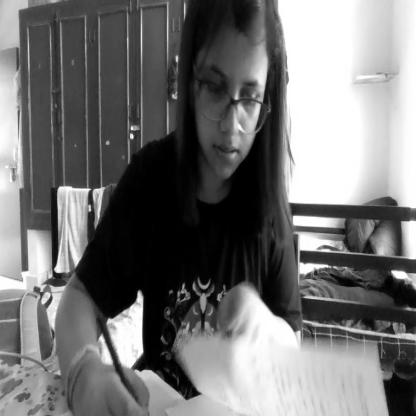Normal: (186, 0, 286, 200)
